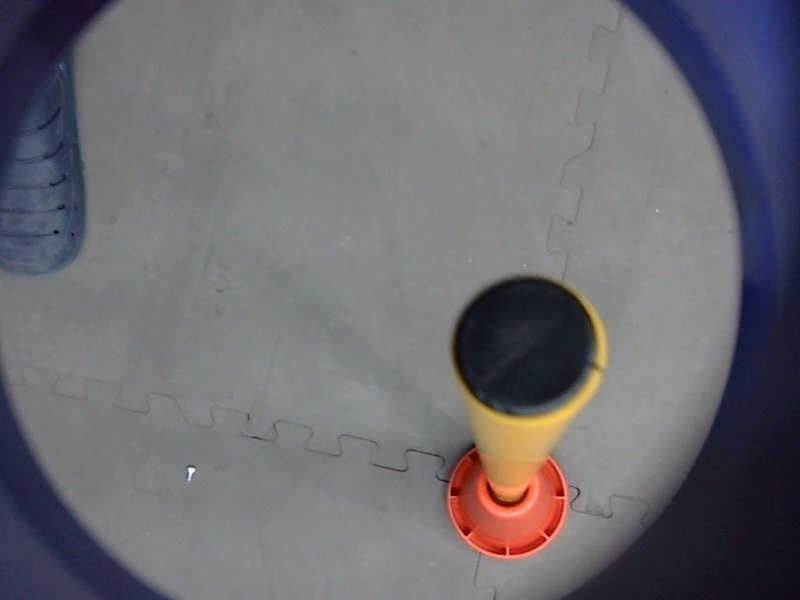tip: (437, 269, 616, 432)
